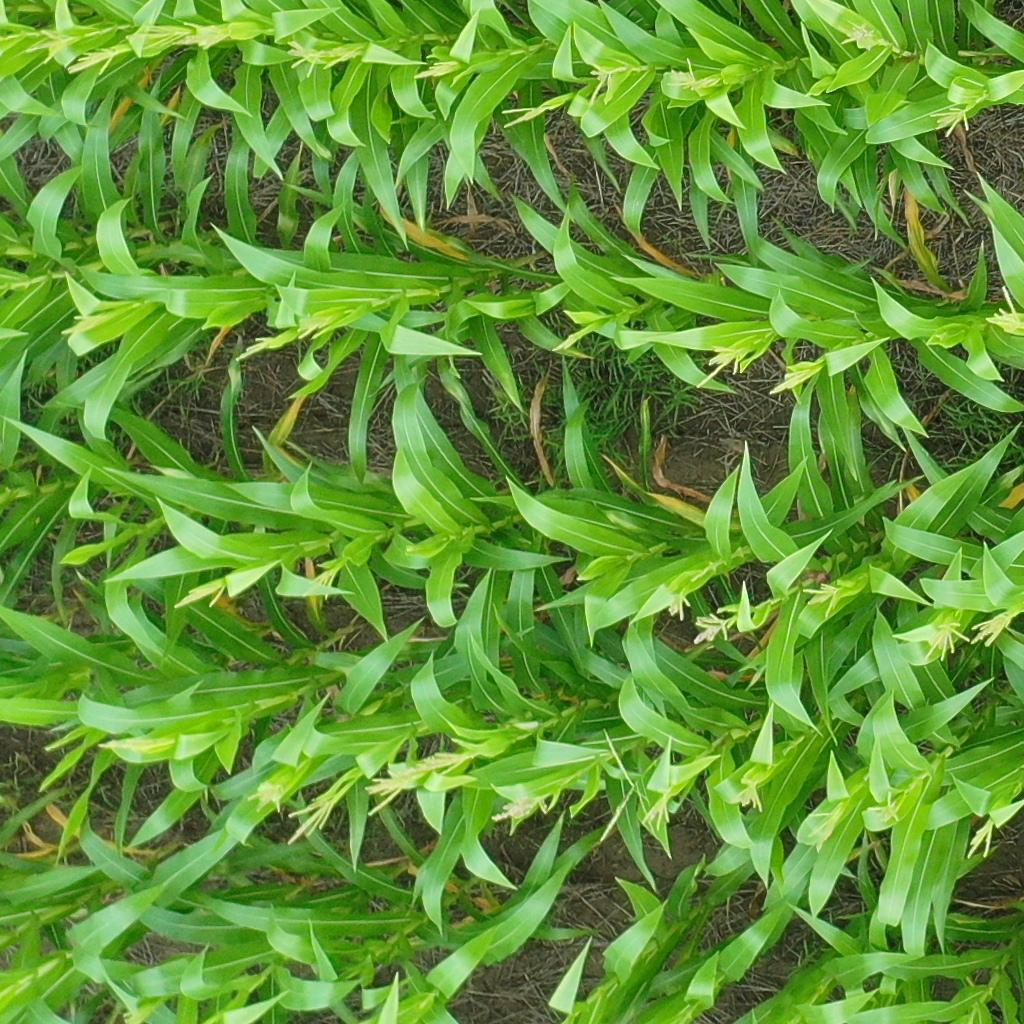Tassel: (597, 726, 657, 848), (282, 34, 367, 74), (283, 792, 339, 848), (359, 771, 419, 818), (915, 616, 970, 667), (692, 338, 740, 391), (767, 358, 830, 398), (410, 745, 484, 779), (122, 19, 188, 57), (976, 283, 1024, 335), (176, 13, 236, 54), (92, 732, 179, 760), (24, 24, 82, 66), (664, 53, 723, 94), (172, 577, 233, 616), (640, 784, 688, 833), (687, 605, 744, 646), (63, 44, 120, 82), (929, 98, 979, 141), (969, 607, 1019, 650), (585, 57, 624, 110), (490, 794, 547, 830), (961, 807, 997, 864), (859, 787, 910, 827), (298, 564, 346, 606), (836, 15, 886, 53), (803, 805, 845, 849), (60, 310, 114, 342), (725, 775, 770, 813), (234, 326, 278, 364), (802, 572, 840, 615), (547, 324, 599, 355), (247, 779, 293, 813), (499, 100, 552, 129), (657, 581, 695, 620), (294, 306, 336, 339), (411, 59, 464, 83)
